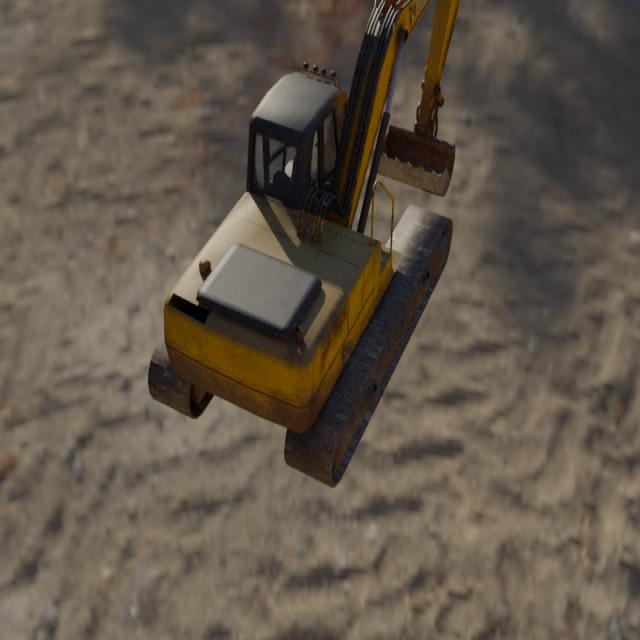excavator: (147, 0, 459, 489)
